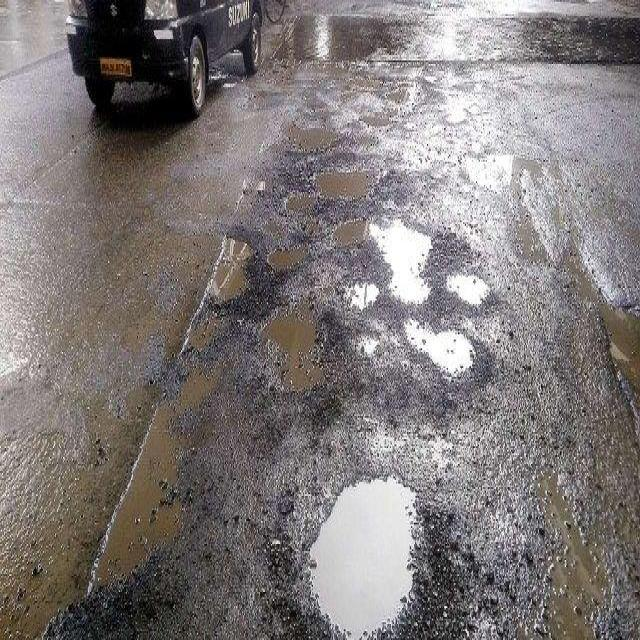lubang: (68, 334, 213, 614), (286, 464, 469, 640), (513, 425, 640, 640), (556, 213, 640, 457), (266, 2, 429, 71), (455, 129, 570, 201), (261, 295, 323, 407), (368, 212, 426, 324), (192, 233, 253, 336), (407, 320, 486, 384), (436, 263, 512, 327), (280, 118, 337, 164), (309, 163, 384, 196), (272, 235, 315, 279), (339, 331, 386, 366), (334, 276, 382, 310), (288, 182, 316, 222), (327, 212, 370, 238)
